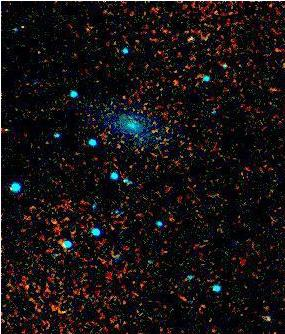star: (40, 209, 70, 239)
